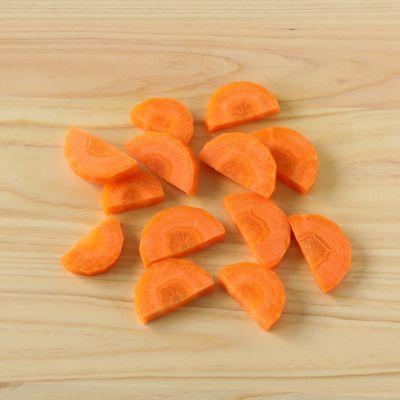buah_sayur_vitA: (156, 213, 205, 246), (147, 267, 196, 296), (219, 138, 255, 176), (228, 267, 271, 297), (240, 199, 271, 238), (307, 228, 341, 263), (222, 87, 263, 116), (277, 139, 305, 178), (75, 140, 107, 171), (147, 103, 178, 131), (150, 138, 177, 169), (81, 242, 114, 264)
